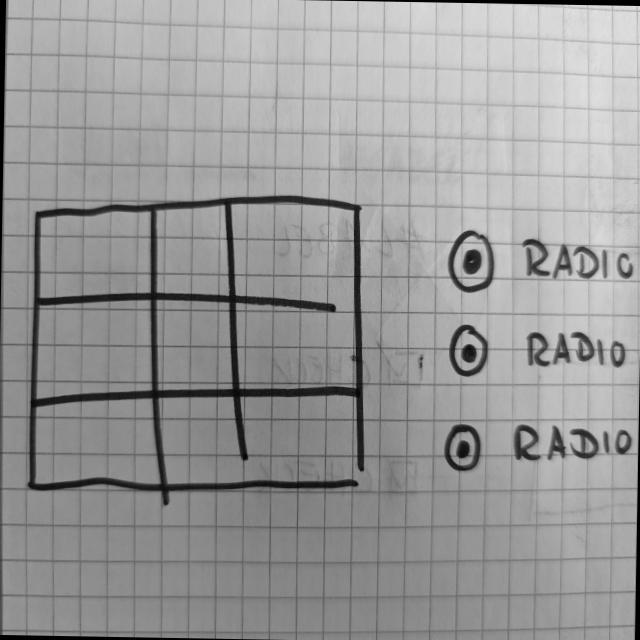radio: (446, 225, 636, 298), (441, 416, 635, 478), (446, 321, 632, 384)
table: (23, 188, 373, 500)
